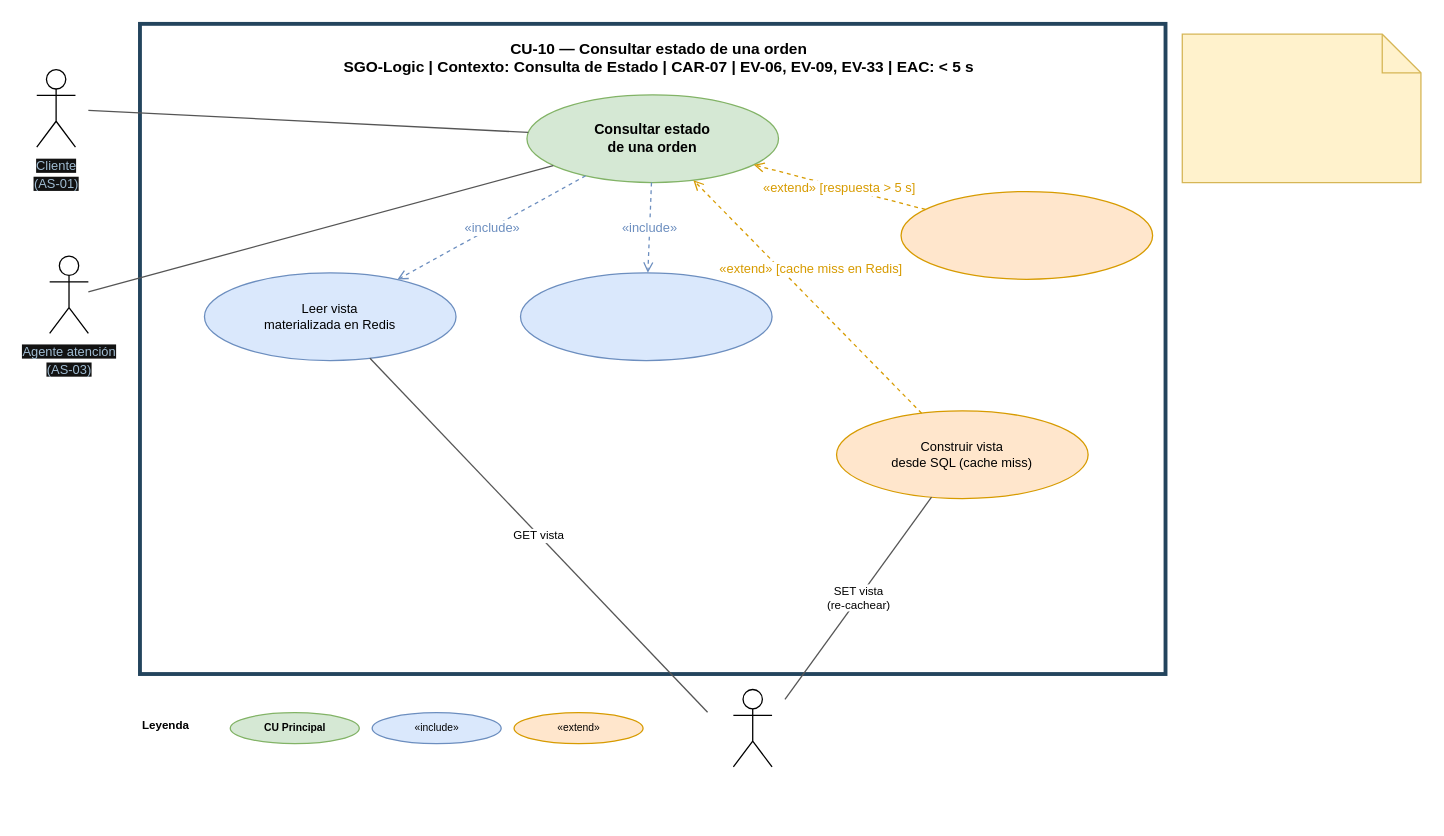
This 1444x836 diagram has some shape labels left out. Each missing label, with the box of its shape:
EAC declarado: < 5 segundos. Vista precalculada en Redis. (EV-33, CAR-07): (1181, 33, 1421, 183)
Redis (sistema): (732, 688, 772, 767)
Registrar degradación si > 5 segundos: (900, 190, 1153, 279)
Retornar vista 360 (compra + cobro + fiscal + despacho + entrega): (519, 272, 772, 361)
